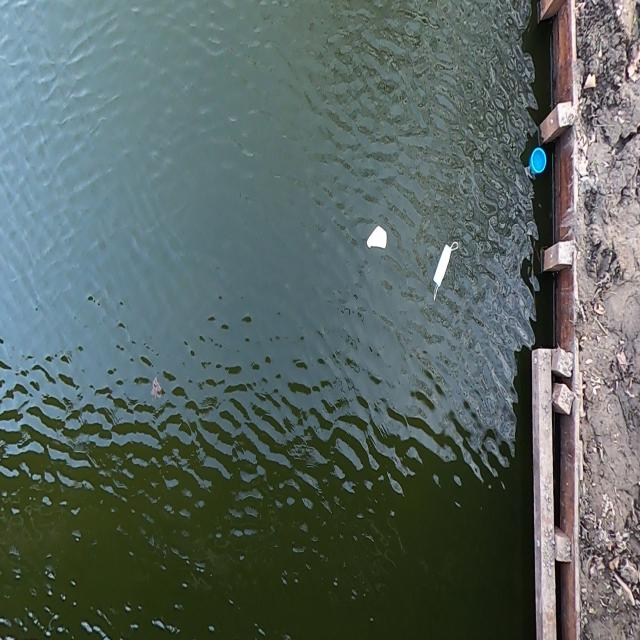Autre plastique: (528, 142, 550, 186)
Non plastique: (429, 230, 461, 299)
